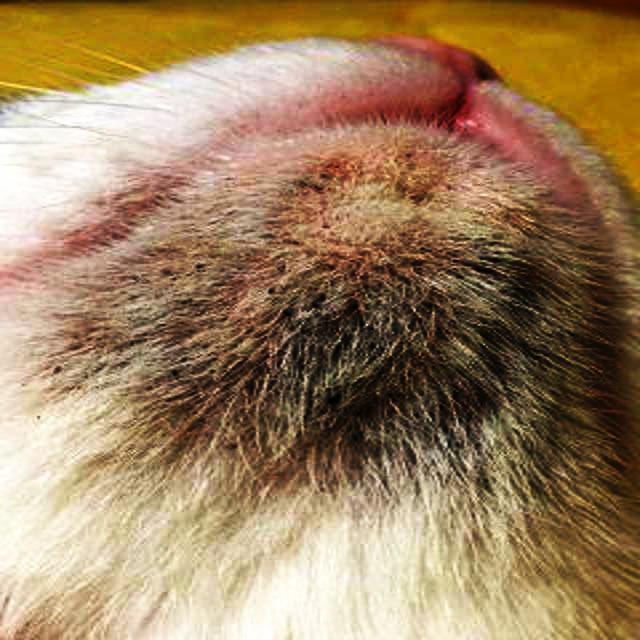acne: (145, 243, 558, 464)
